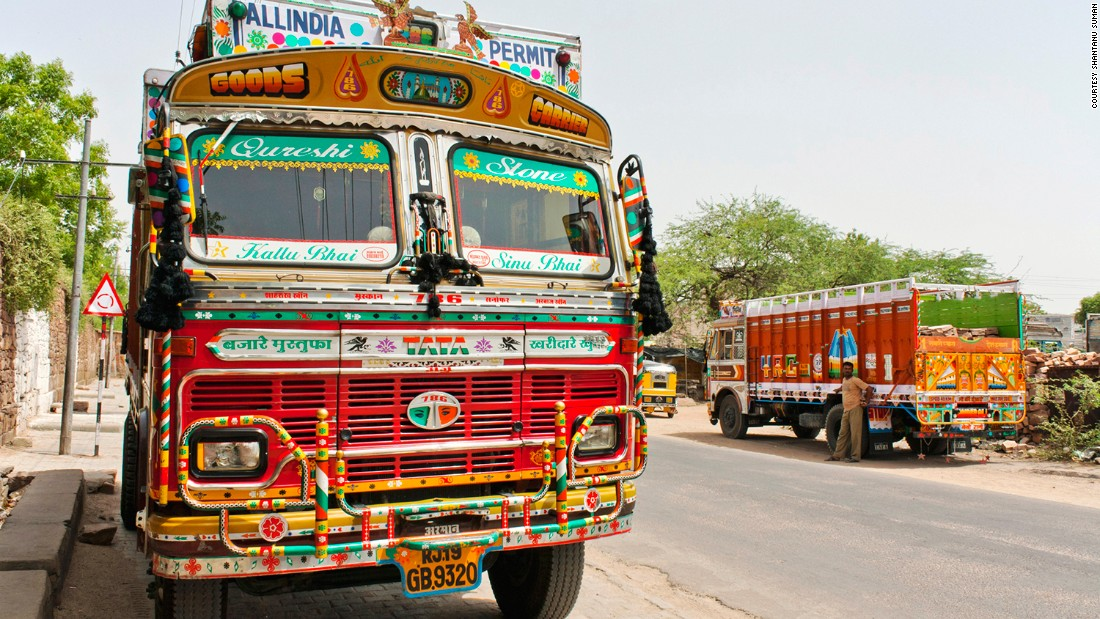rickshaw: (641, 358, 678, 418)
truck: (141, 1, 644, 619), (706, 298, 1027, 462)
